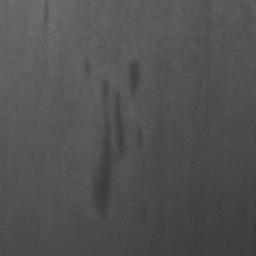Inclusion: (92, 82, 124, 216), (127, 59, 143, 93)
